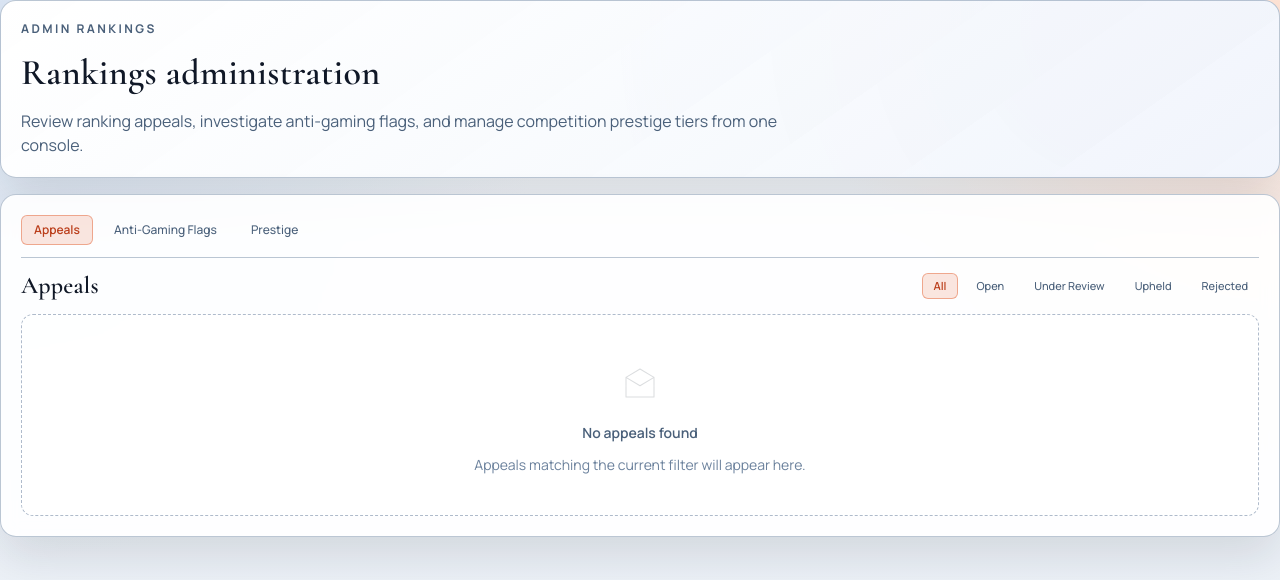
Test: AdminRankingsPage › renders flag with mapped reason and shows resolve button for open flag
Expected: the heading "Rankings administration" is shown, x1=21 y1=51 x2=380 y2=94
Click the button "Anti-Gaming Flags": (165,230) x1=101 y1=215 x2=230 y2=245
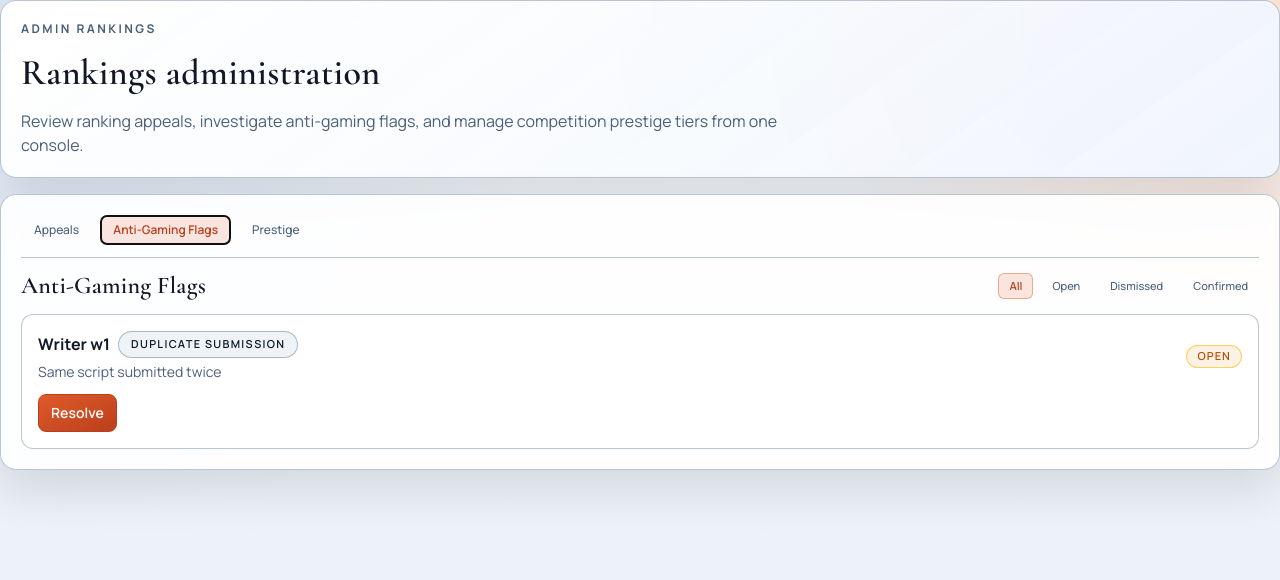
Result: the text "Duplicate Submission" is shown at x1=118 y1=331 x2=298 y2=358
Result: the text "Same script submitted twice" is shown at x1=38 y1=362 x2=221 y2=380
Result: the button "Resolve" is shown at x1=38 y1=394 x2=117 y2=432
